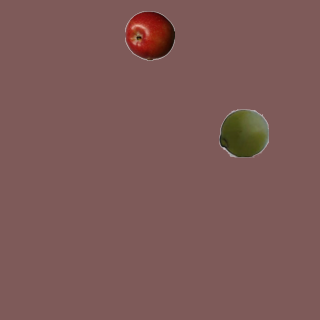Apple Braeburn: (124, 10, 174, 60)
Grape White 4: (218, 107, 268, 157)
